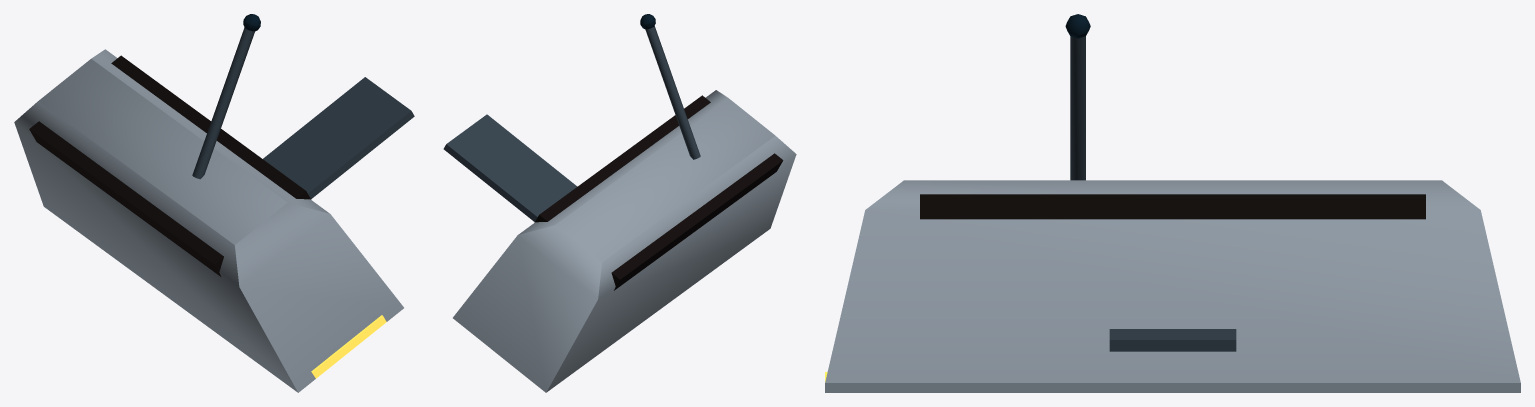
Rendered from debris_sail.glb.
3 renders of one model, left to right at view 1: azimuth 30°, elevation 25°; view 2: azimuth 150°, elevation 25°; view 3: azimuth 270°, elevation 25°, orthographic. The views are drawn at different scales.
Visible parts, largest first — view 1: sail_body, plane, scorch, periscope_m, hot; view 2: sail_body, plane, scorch, periscope_m; view 3: sail_body, scorch, plane, periscope_m.
Boxes of the visible parts, bbox=[...] form: sail_body: bbox=[14, 49, 403, 392]; plane: bbox=[263, 77, 414, 198]; scorch: bbox=[29, 55, 311, 276]; periscope_m: bbox=[192, 27, 254, 179]; hot: bbox=[311, 315, 386, 378]; sail_body: bbox=[453, 90, 796, 392]; plane: bbox=[443, 114, 577, 221]; scorch: bbox=[534, 95, 783, 290]; periscope_m: bbox=[645, 26, 700, 159]; sail_body: bbox=[825, 180, 1520, 392]; scorch: bbox=[920, 194, 1425, 219]; plane: bbox=[1109, 329, 1236, 351]; periscope_m: bbox=[1070, 36, 1085, 180].
Size of the model in its own units: 2.69 by 2.85 by 4.4.
